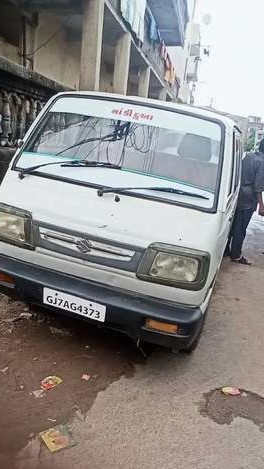GJ7AG4373: (42, 286, 106, 321)
